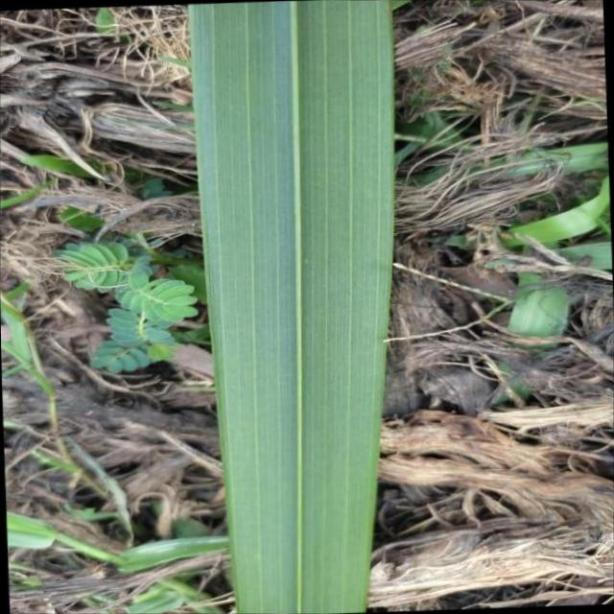Healthy: (188, 0, 398, 604)
